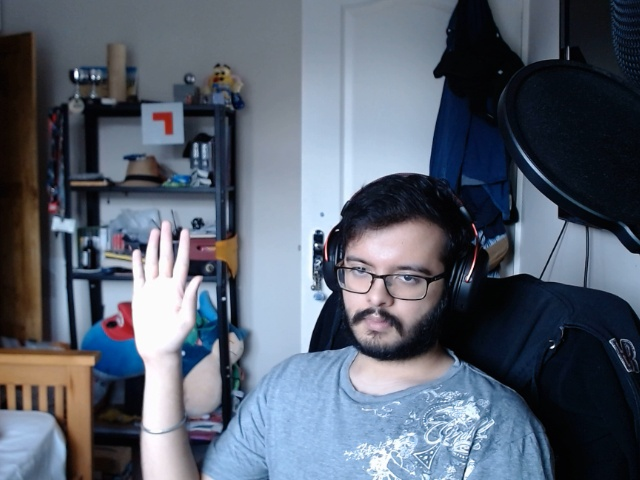Hello: (120, 216, 210, 360)
